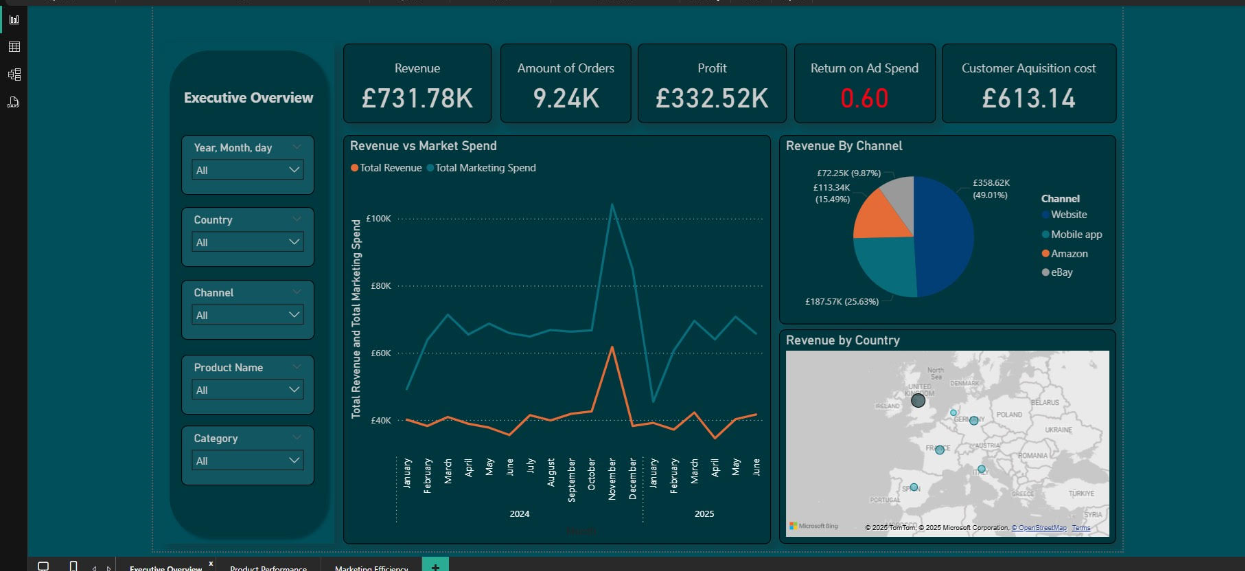

What the dashboard file says about the page in this screenshot:
{"tool":"powerbi","page":{"name":"Executive Overview","canvas":[1280,720],"ordinal":0},"visuals":[{"type":"cardVisual","fields":{"Data":["Sum(ecom_orders.Revenue)"]},"box":[250.9,49.6,196.5,105],"z":0},{"type":"cardVisual","fields":{"Data":["Count(ecom_orders.OrderID)"]},"box":[459.1,49.6,173.1,105],"z":1000},{"type":"cardVisual","fields":{"Data":["ecom_orders.Profit"]},"box":[640,49.6,197.4,105],"z":2000},{"type":"cardVisual","fields":{"Data":["ecom_orders.Return on Ad Spend"]},"box":[847.2,49.6,186.7,105],"z":3000},{"type":"cardVisual","fields":{"Data":["ecom_orders.Customer Aquisition cost"]},"box":[1041.7,49.6,230.5,105],"z":4000},{"type":"lineChart","title":"Revenue vs Market Spend","fields":{"Category":["DimDate.Year","DimDate.Month"],"Y":["Sum(ecom_orders.Revenue)","Sum(ecom_marketing_spend.Spend)"]},"box":[250.9,170.2,565.1,539.8],"z":5000},{"type":"pieChart","title":"Revenue By Channel","fields":{"Y":["Sum(ecom_orders.Revenue)"],"Category":["Channel Advertisment.Channel"]},"box":[826.7,170.2,445.5,250],"z":6000},{"type":"map","title":"Revenue by Country","fields":{"Category":["ecom_orders.Country"],"Size":["Sum(ecom_orders.Revenue)"]},"box":[826.7,427,445.5,283],"z":7000},{"type":"shape","box":[12.6,49.6,226.6,660.4],"z":8000},{"type":"slicer","title":"Date","fields":{"Values":["DimDate.Year Hierarchy.Year","DimDate.Year Hierarchy.Month","DimDate.Year Hierarchy.day"]},"box":[37.2,170.5,175.9,78.9],"z":9000},{"type":"slicer","fields":{"Values":["ecom_orders.Country"]},"box":[37.2,265.7,175.9,78.9],"z":10000},{"type":"slicer","fields":{"Values":["ecom_orders.Channel"]},"box":[37.2,361.8,175.9,78.9],"z":11000},{"type":"slicer","fields":{"Values":["ecom_products.ProductName"]},"box":[37.2,460.7,175.9,78.9],"z":12000},{"type":"slicer","fields":{"Values":["ecom_products.Category"]},"box":[37.2,554.1,175.9,78.9],"z":13000},{"type":"textbox","box":[26.3,102.1,199.4,45.7],"z":14000}]}

Visuals, with their boxes on the page's 1280x720 design canvas (x1, y1, x2, y2). These are canvas units, not pixel positions in the 1245x571 screenshot, which may show the page scaled, cropped or inside an application window:
cardVisual - Sum(ecom_orders.Revenue): 251, 50, 447, 155
cardVisual - Count(ecom_orders.OrderID): 459, 50, 632, 155
cardVisual - ecom_orders.Profit: 640, 50, 837, 155
cardVisual - ecom_orders.Return on Ad Spend: 847, 50, 1034, 155
cardVisual - ecom_orders.Customer Aquisition cost: 1042, 50, 1272, 155
"Revenue vs Market Spend" lineChart: 251, 170, 816, 710
"Revenue By Channel" pieChart: 827, 170, 1272, 420
"Revenue by Country" map: 827, 427, 1272, 710
shape: 13, 50, 239, 710
"Date" slicer: 37, 170, 213, 249
slicer - ecom_orders.Country: 37, 266, 213, 345
slicer - ecom_orders.Channel: 37, 362, 213, 441
slicer - ecom_products.ProductName: 37, 461, 213, 540
slicer - ecom_products.Category: 37, 554, 213, 633
textbox: 26, 102, 226, 148
